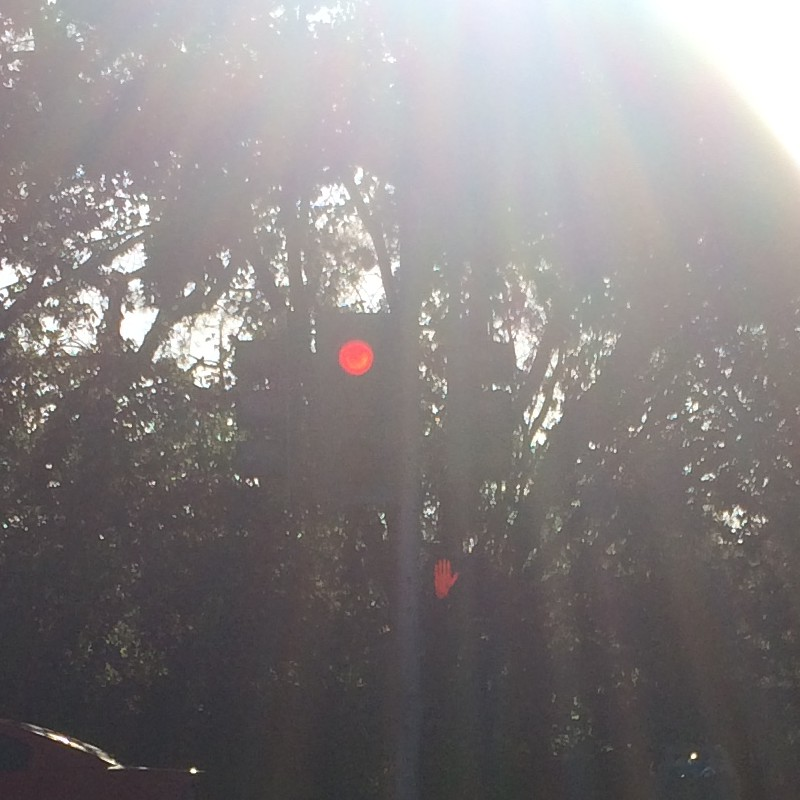stop: (417, 552, 488, 610)
